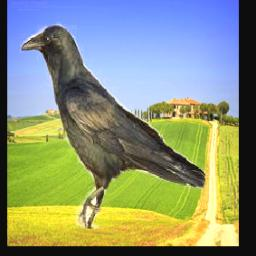Crow: (18, 21, 207, 229)
